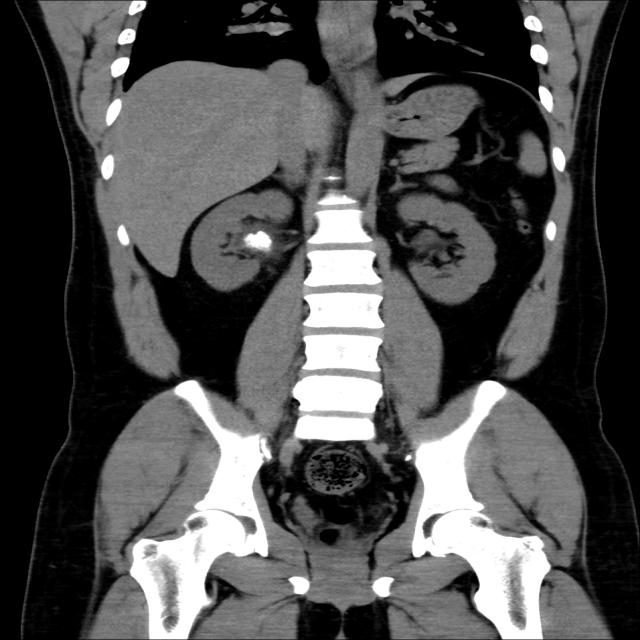kidneystone: (244, 231, 273, 251)
